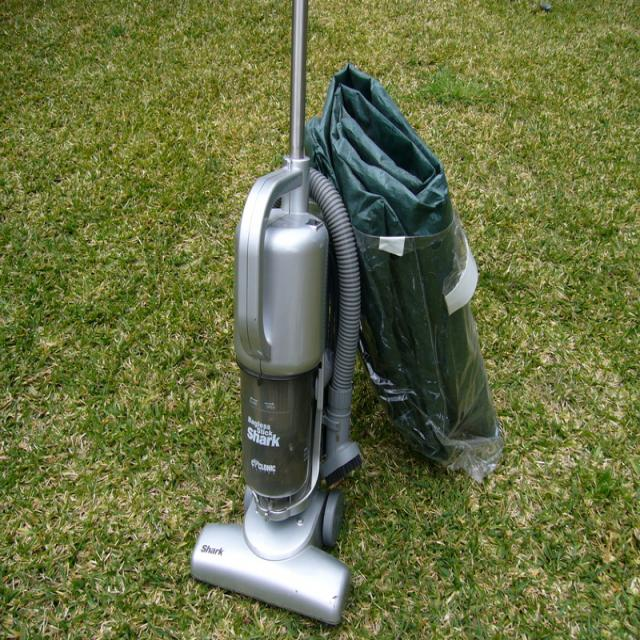vaccum- bag: (306, 66, 503, 481)
